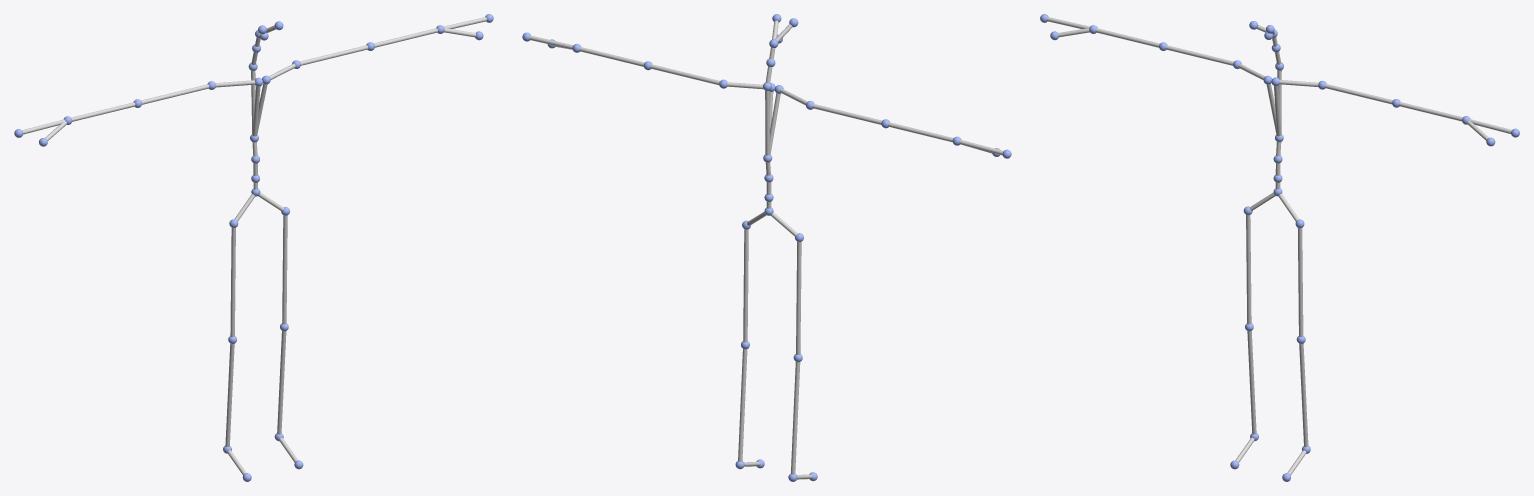
File: SOMA30.fbx
3 views of the same model, side by side, from view 1: azimuth 30°, elevation 25°; view 2: azimuth 150°, elevation 25°; view 3: azimuth 330°, elevation 25° (orthographic). The views are drawn at different scales.
Visible parts, largest first — view 1: BoneSegment_4, BoneSegment_5, BoneSegment_7, BoneSegment_8; view 2: BoneSegment_4, BoneSegment_7, BoneSegment_5, BoneSegment_8; view 3: BoneSegment_5, BoneSegment_4, BoneSegment_7, BoneSegment_8.
Part boxes in pixels (x1=…): BoneSegment_4: x1=282, y1=215, x2=287, y2=324; BoneSegment_5: x1=230, y1=227, x2=235, y2=337; BoneSegment_7: x1=277, y1=331, x2=286, y2=434; BoneSegment_8: x1=225, y1=343, x2=234, y2=446; BoneSegment_4: x1=743, y1=229, x2=748, y2=342; BoneSegment_7: x1=738, y1=349, x2=747, y2=461; BoneSegment_5: x1=796, y1=241, x2=801, y2=354; BoneSegment_8: x1=791, y1=362, x2=800, y2=474; BoneSegment_5: x1=1246, y1=215, x2=1251, y2=324; BoneSegment_4: x1=1297, y1=228, x2=1303, y2=336; BoneSegment_7: x1=1299, y1=343, x2=1308, y2=447; BoneSegment_8: x1=1247, y1=331, x2=1256, y2=434.
Size of the model in its own units: 186 by 167 by 16.31.
